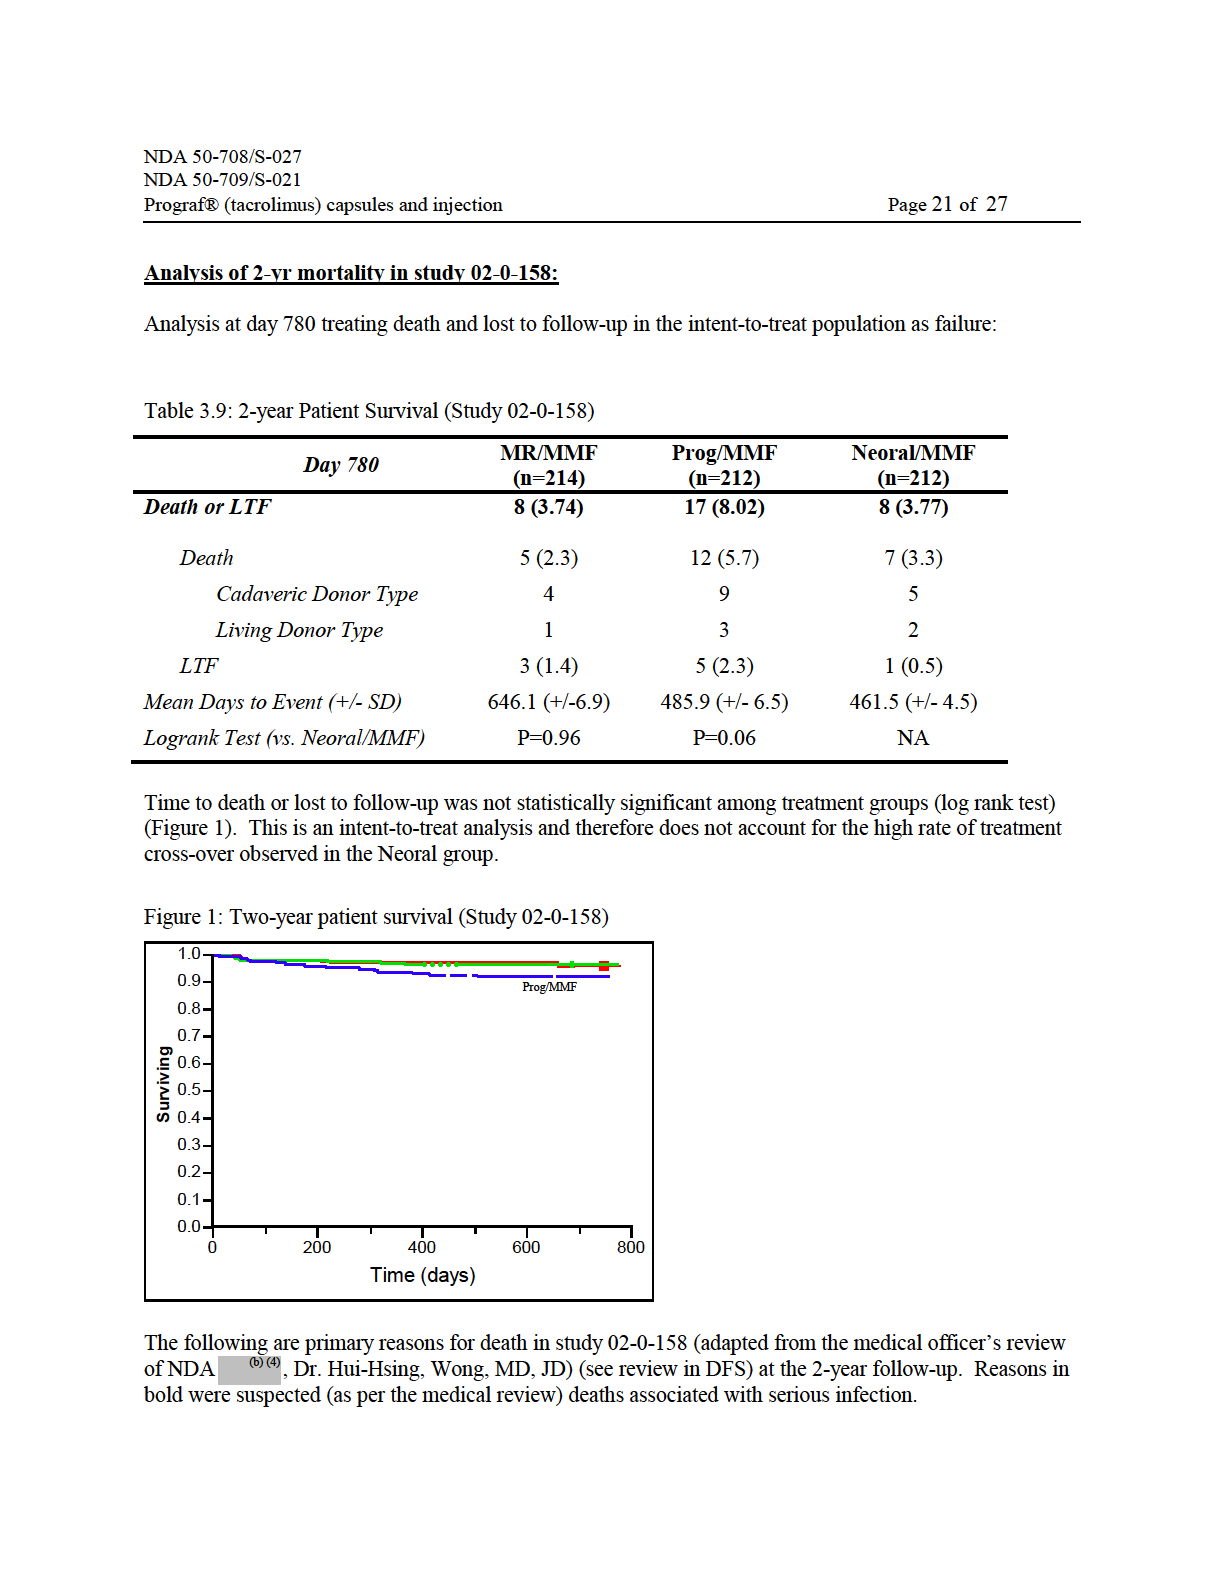partial_lined: (131, 435, 1009, 765)
